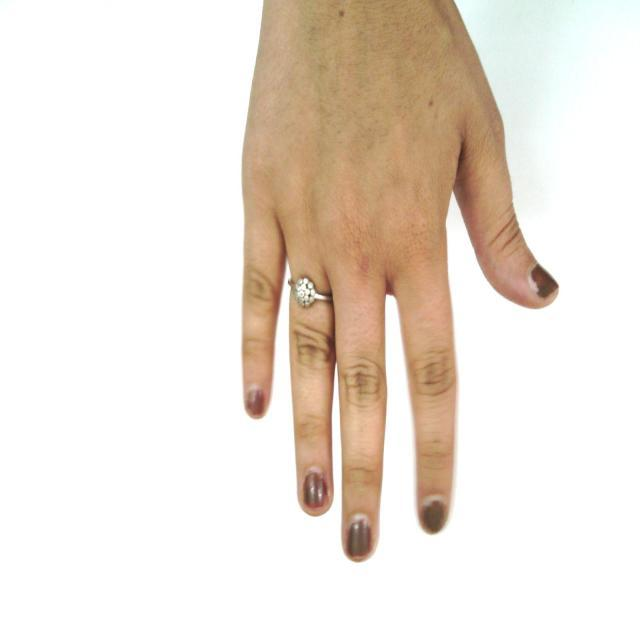Fingernail: (526, 261, 559, 299), (347, 513, 373, 559), (303, 465, 328, 509), (422, 494, 445, 535), (246, 385, 265, 417)
